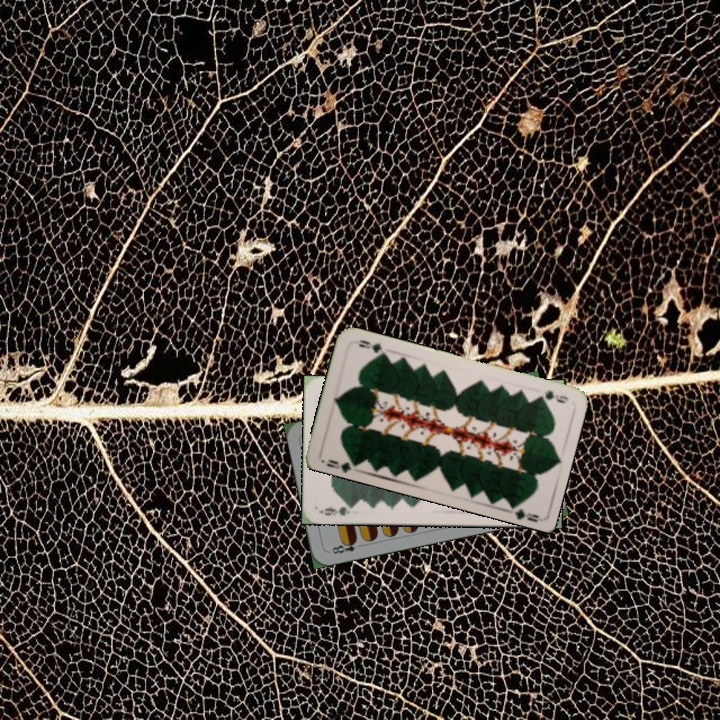E8: (325, 535, 365, 557)
G9: (531, 386, 571, 406), (322, 454, 360, 474), (321, 503, 352, 518)
